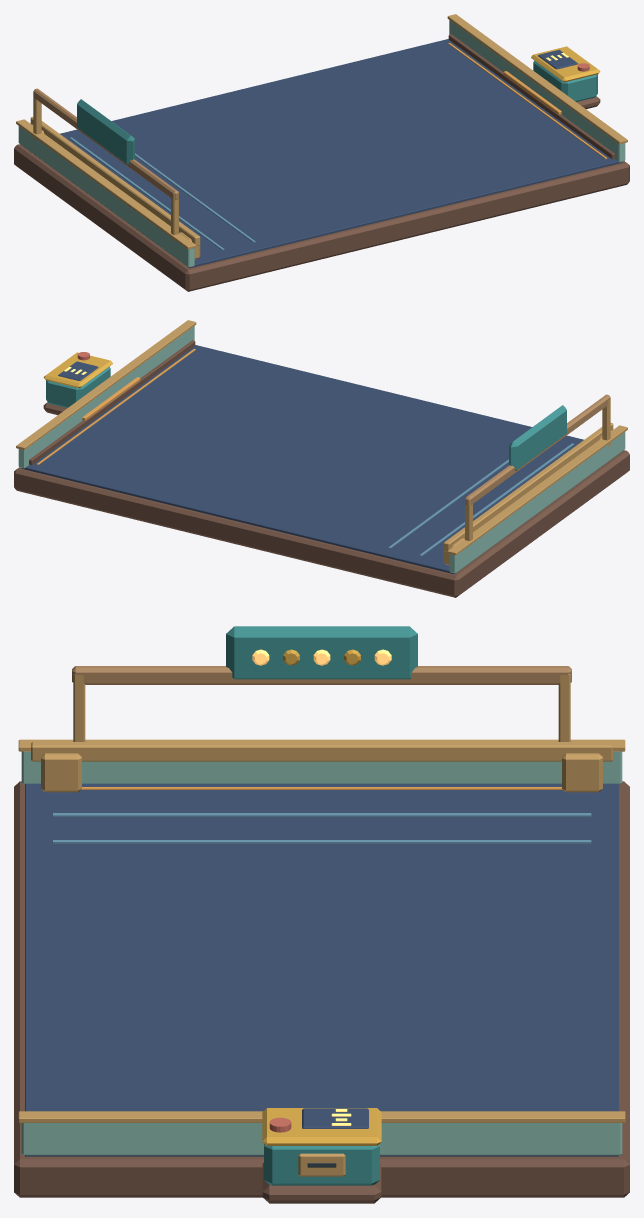
The model's file is SM_Pinball_Board.fbx.
The picture shows the model from 3 angles, top to bottom: view 1: azimuth 30°, elevation 25°; view 2: azimuth 150°, elevation 25°; view 3: azimuth 270°, elevation 25°; orthographic projection. The views are drawn at different scales.
Parts seen in each view (by area): view 1: SM_Pinball_Board; view 2: SM_Pinball_Board; view 3: SM_Pinball_Board.
Boxes of the visible parts, x1,y1,x2,y2 form: SM_Pinball_Board: (14,14,629,291); SM_Pinball_Board: (14,320,629,597); SM_Pinball_Board: (14,626,629,1203).
Bounding box in the file's own units: 1167 × 726 × 255.
